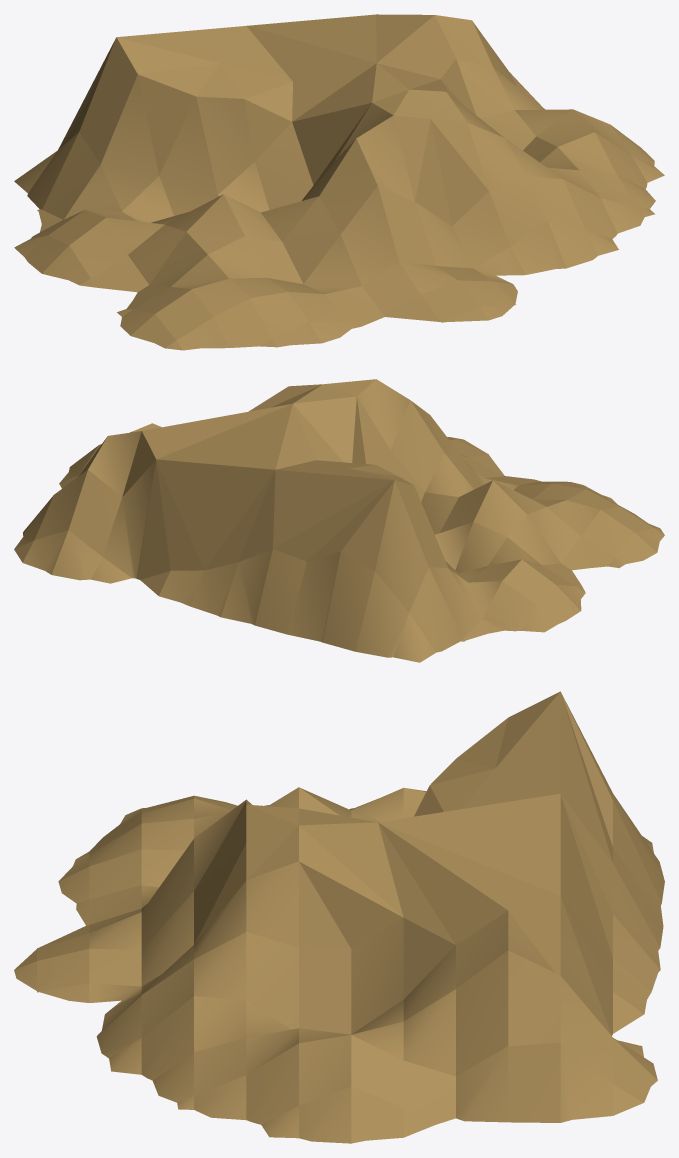
Rendered from Hill_Dirt_02.fbx.
The picture shows the model from 3 angles, top to bottom: view 1: azimuth 30°, elevation 25°; view 2: azimuth 150°, elevation 25°; view 3: azimuth 270°, elevation 25°; orthographic projection. The views are drawn at different scales.
Parts seen in each view (by area): view 1: Hill_Dirt_02; view 2: Hill_Dirt_02; view 3: Hill_Dirt_02.
Boxes of the visible parts, x1,y1,x2,y2 form: Hill_Dirt_02: (14, 14, 664, 350); Hill_Dirt_02: (14, 379, 664, 662); Hill_Dirt_02: (14, 691, 664, 1143).
Size of the model in its own units: 1870 by 482 by 1492.
